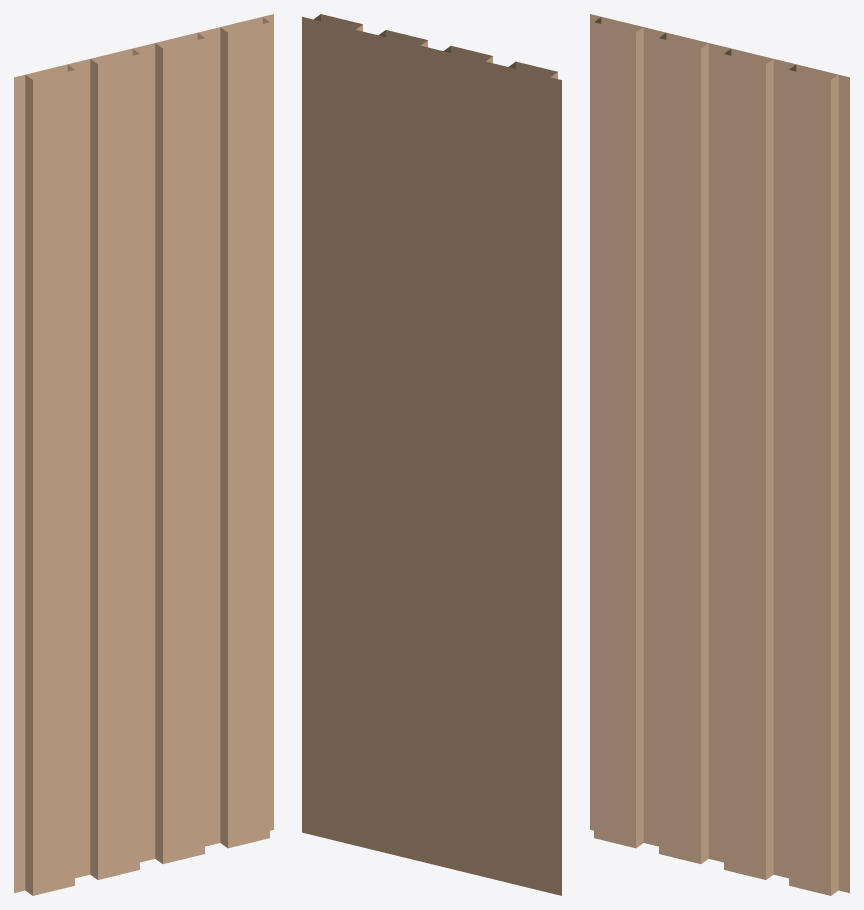
Rendered from wpc-fluted-panel.glb.
The picture shows the model from 3 angles, left to right: view 1: azimuth 30°, elevation 25°; view 2: azimuth 150°, elevation 25°; view 3: azimuth 330°, elevation 25°; orthographic projection.
Visible parts, largest first — view 1: MarvelRise_WPC_Fluted_Slat; view 2: MarvelRise_WPC_Fluted_Slat; view 3: MarvelRise_WPC_Fluted_Slat.
Part boxes in pixels (left/top/right/bottom): MarvelRise_WPC_Fluted_Slat: left=14, top=14, right=273, bottom=895; MarvelRise_WPC_Fluted_Slat: left=302, top=14, right=561, bottom=895; MarvelRise_WPC_Fluted_Slat: left=590, top=14, right=849, bottom=895.
Bounding box in the file's own units: 0.3 × 0.9 × 0.015.
